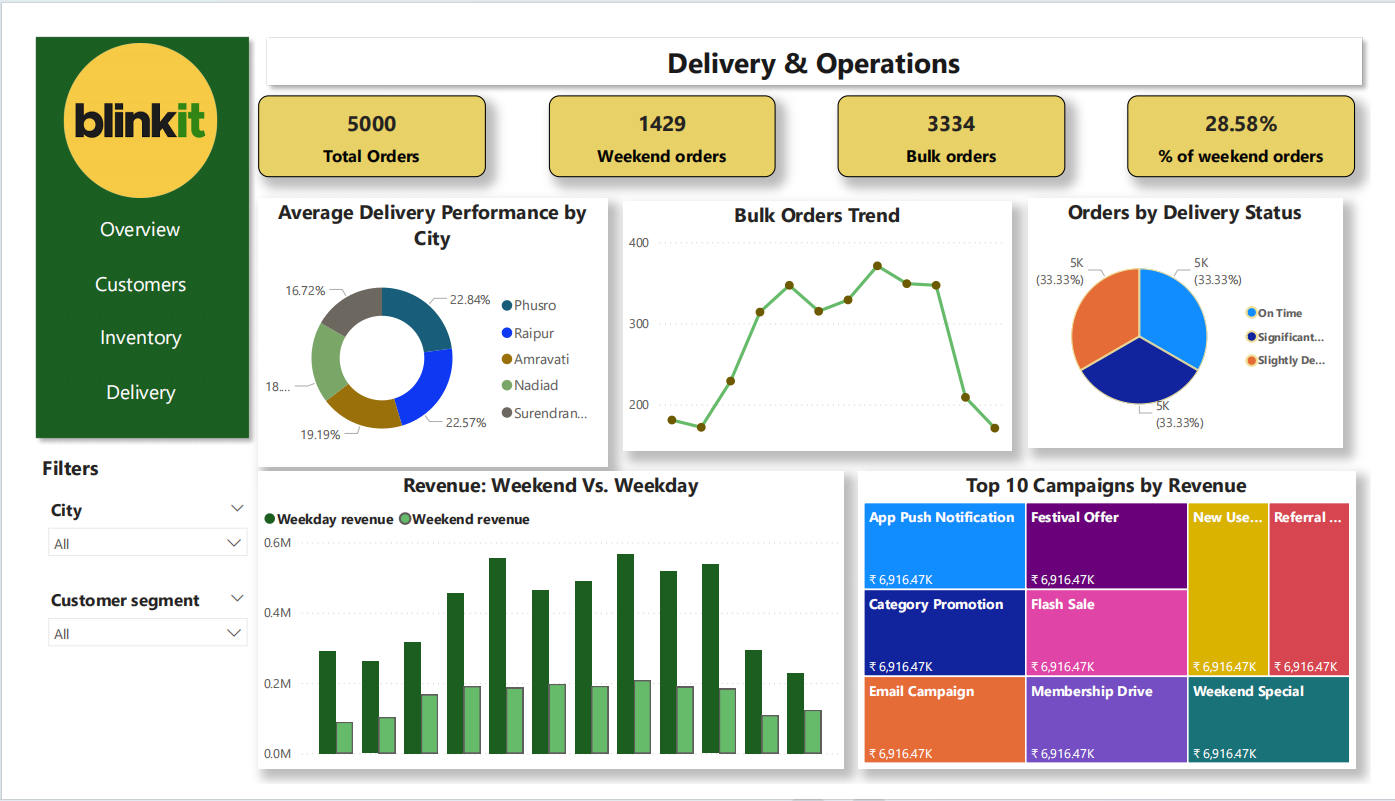

Layout of this report page (visuals, bound fields, positions):
{"tool":"powerbi","page":{"name":"Page 4","canvas":[1280,720],"ordinal":3},"visuals":[{"type":"shape","box":[0,0,219.9,399.2],"z":0},{"type":"image","box":[12.5,14.6,190.3,146.4],"z":1000},{"type":"actionButton","box":[13,161,190.3,58.6],"z":2000},{"type":"actionButton","box":[13,212.7,190.6,58.7],"z":3000},{"type":"actionButton","box":[13,264.4,190.6,58.7],"z":4000},{"type":"actionButton","box":[13,316.1,190.6,58.7],"z":5000},{"type":"shape","title":"Executive Overview Dashboard","box":[219.6,0,1060.4,62.7],"z":6000},{"type":"slicer","title":"Category","fields":{"Values":["Customers.City"]},"box":[9.8,443.1,210.2,86.3],"z":7000},{"type":"textbox","box":[9.8,400.8,210.2,42.4],"z":8000},{"type":"slicer","title":"Category","fields":{"Values":["Customers.customer_segment"]},"box":[9.8,529.5,210.2,86.3],"z":9000},{"type":"card","fields":{"Values":["Dax measures.Total Orders"]},"box":[219.5,63.6,217.9,77.9],"z":10001},{"type":"card","fields":{"Values":["Dax measures.Weekend orders"]},"box":[496.6,63.6,216.7,78.3],"z":10002},{"type":"card","fields":{"Values":["Dax measures.Bulk orders"]},"box":[772.5,63.6,216.7,78.3],"z":10003},{"type":"card","fields":{"Values":["Dax measures.% of weekend orders"]},"box":[1048.3,63.6,216.7,78.3],"z":10004},{"type":"donutChart","title":"Average Delivery Performance by City","fields":{"Category":["Customers.City"],"Y":["Dax measures.Avg delivery time(Min)"]},"box":[220,161.7,333.3,256.7],"z":10005},{"type":"lineChart","title":"Bulk Orders Trend","fields":{"Category":["Calender.Month"],"Y":["Dax measures.Bulk orders"]},"box":[568.3,165,370,238.3],"z":10006},{"type":"pieChart","title":"Orders by Delivery Status","fields":{"Category":["delivery_performance.delivery_status"],"Y":["Dax measures.Total Orders"]},"box":[953.3,161.7,300,238.3],"z":10007},{"type":"clusteredColumnChart","title":"Revenue: Weekend Vs. Weekday","fields":{"Category":["Calender.Month"],"Y":["Dax measures.Weekday revenue","Dax measures.Weekend revenue"]},"box":[220,421.7,558.3,283.3],"z":10008},{"type":"treemap","title":"Top 10 Campaigns by Revenue","fields":{"Group":["marketing_performance.campaign_name"],"Values":["Dax measures.Total revenue"]},"box":[791.7,421.7,473.3,283.3],"z":10009}]}

Visuals, with their boxes in screenshot pixels (x1, y1, x2, y2), scaled from the page's 1280x720 canvas onto the 1395x801 screenshot:
shape: (0, 0, 240, 444)
image: (14, 16, 221, 179)
actionButton: (14, 179, 222, 244)
actionButton: (14, 237, 222, 302)
actionButton: (14, 294, 222, 359)
actionButton: (14, 352, 222, 417)
"Executive Overview Dashboard" shape: (239, 0, 1394, 70)
"Category" slicer: (11, 493, 240, 589)
textbox: (11, 446, 240, 493)
"Category" slicer: (11, 589, 240, 685)
card - Dax measures.Total Orders: (239, 71, 477, 157)
card - Dax measures.Weekend orders: (541, 71, 777, 158)
card - Dax measures.Bulk orders: (842, 71, 1078, 158)
card - Dax measures.% of weekend orders: (1142, 71, 1379, 158)
"Average Delivery Performance by City" donutChart: (240, 180, 603, 465)
"Bulk Orders Trend" lineChart: (619, 184, 1023, 449)
"Orders by Delivery Status" pieChart: (1039, 180, 1366, 445)
"Revenue: Weekend Vs. Weekday" clusteredColumnChart: (240, 469, 848, 784)
"Top 10 Campaigns by Revenue" treemap: (863, 469, 1379, 784)
